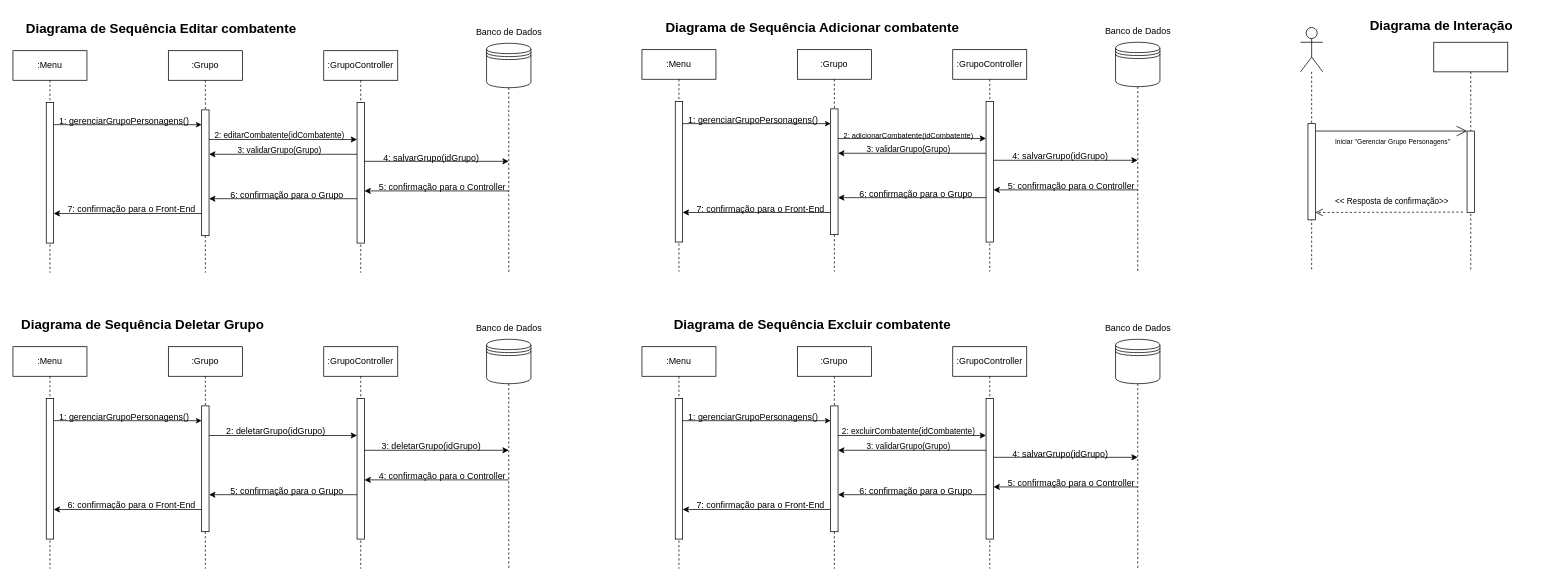
Some shapes in this 1561 by 584 pixel diagram are drawn without their labels. Here are the shapes that lost their labels. From the top down, the centre of each, then its label:
At (1311,49): "Usuario".
At (1470,157): "Sistema".
